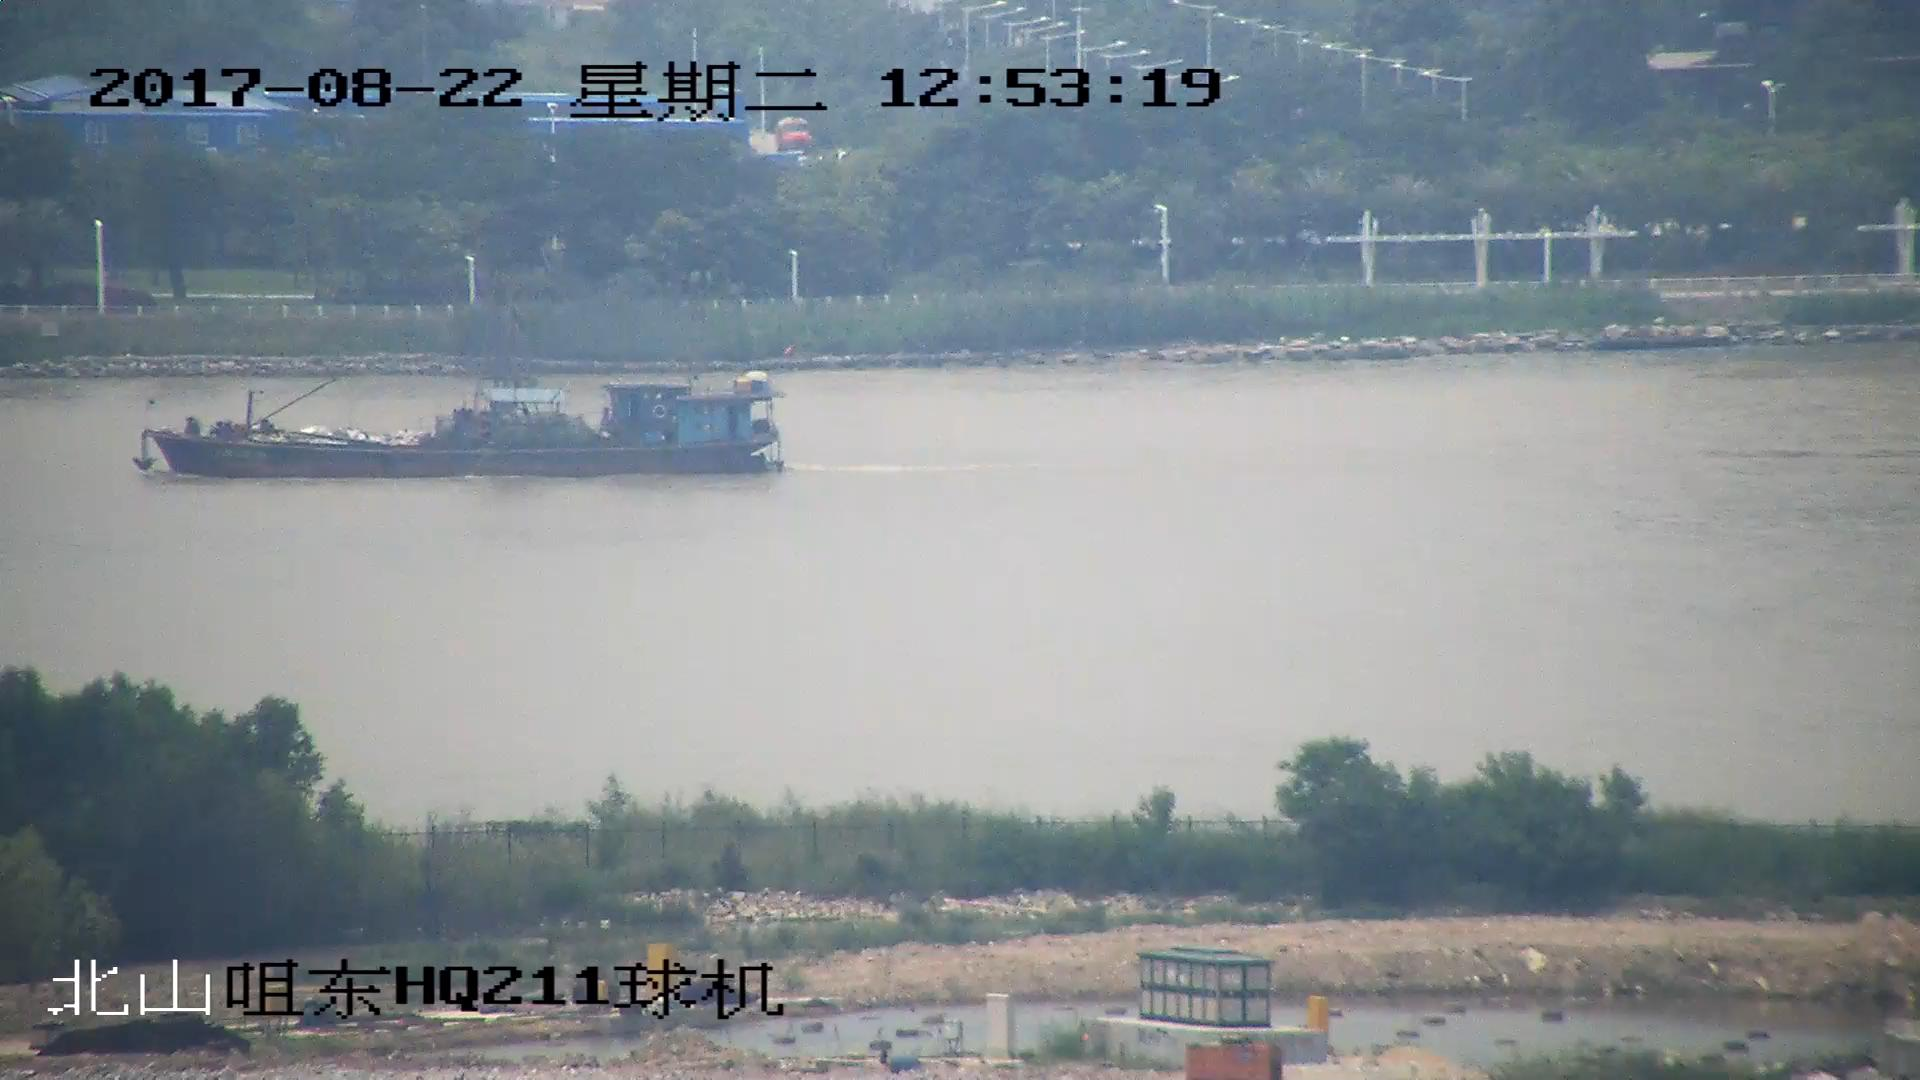fishing boat: (135, 298, 787, 479)
